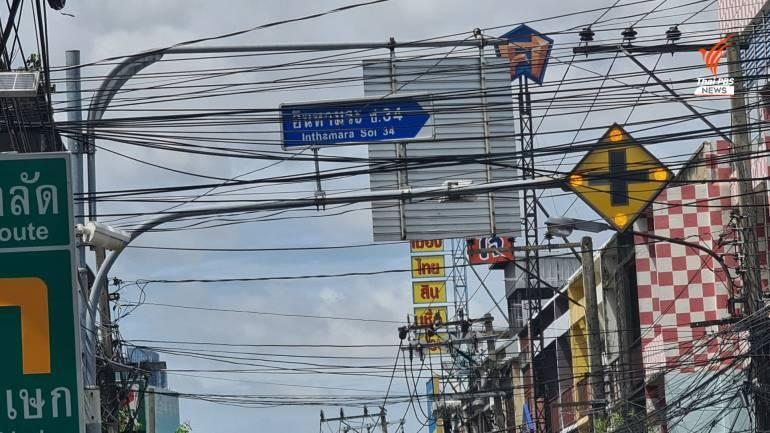wires-only: (104, 63, 275, 215), (643, 301, 770, 433)
